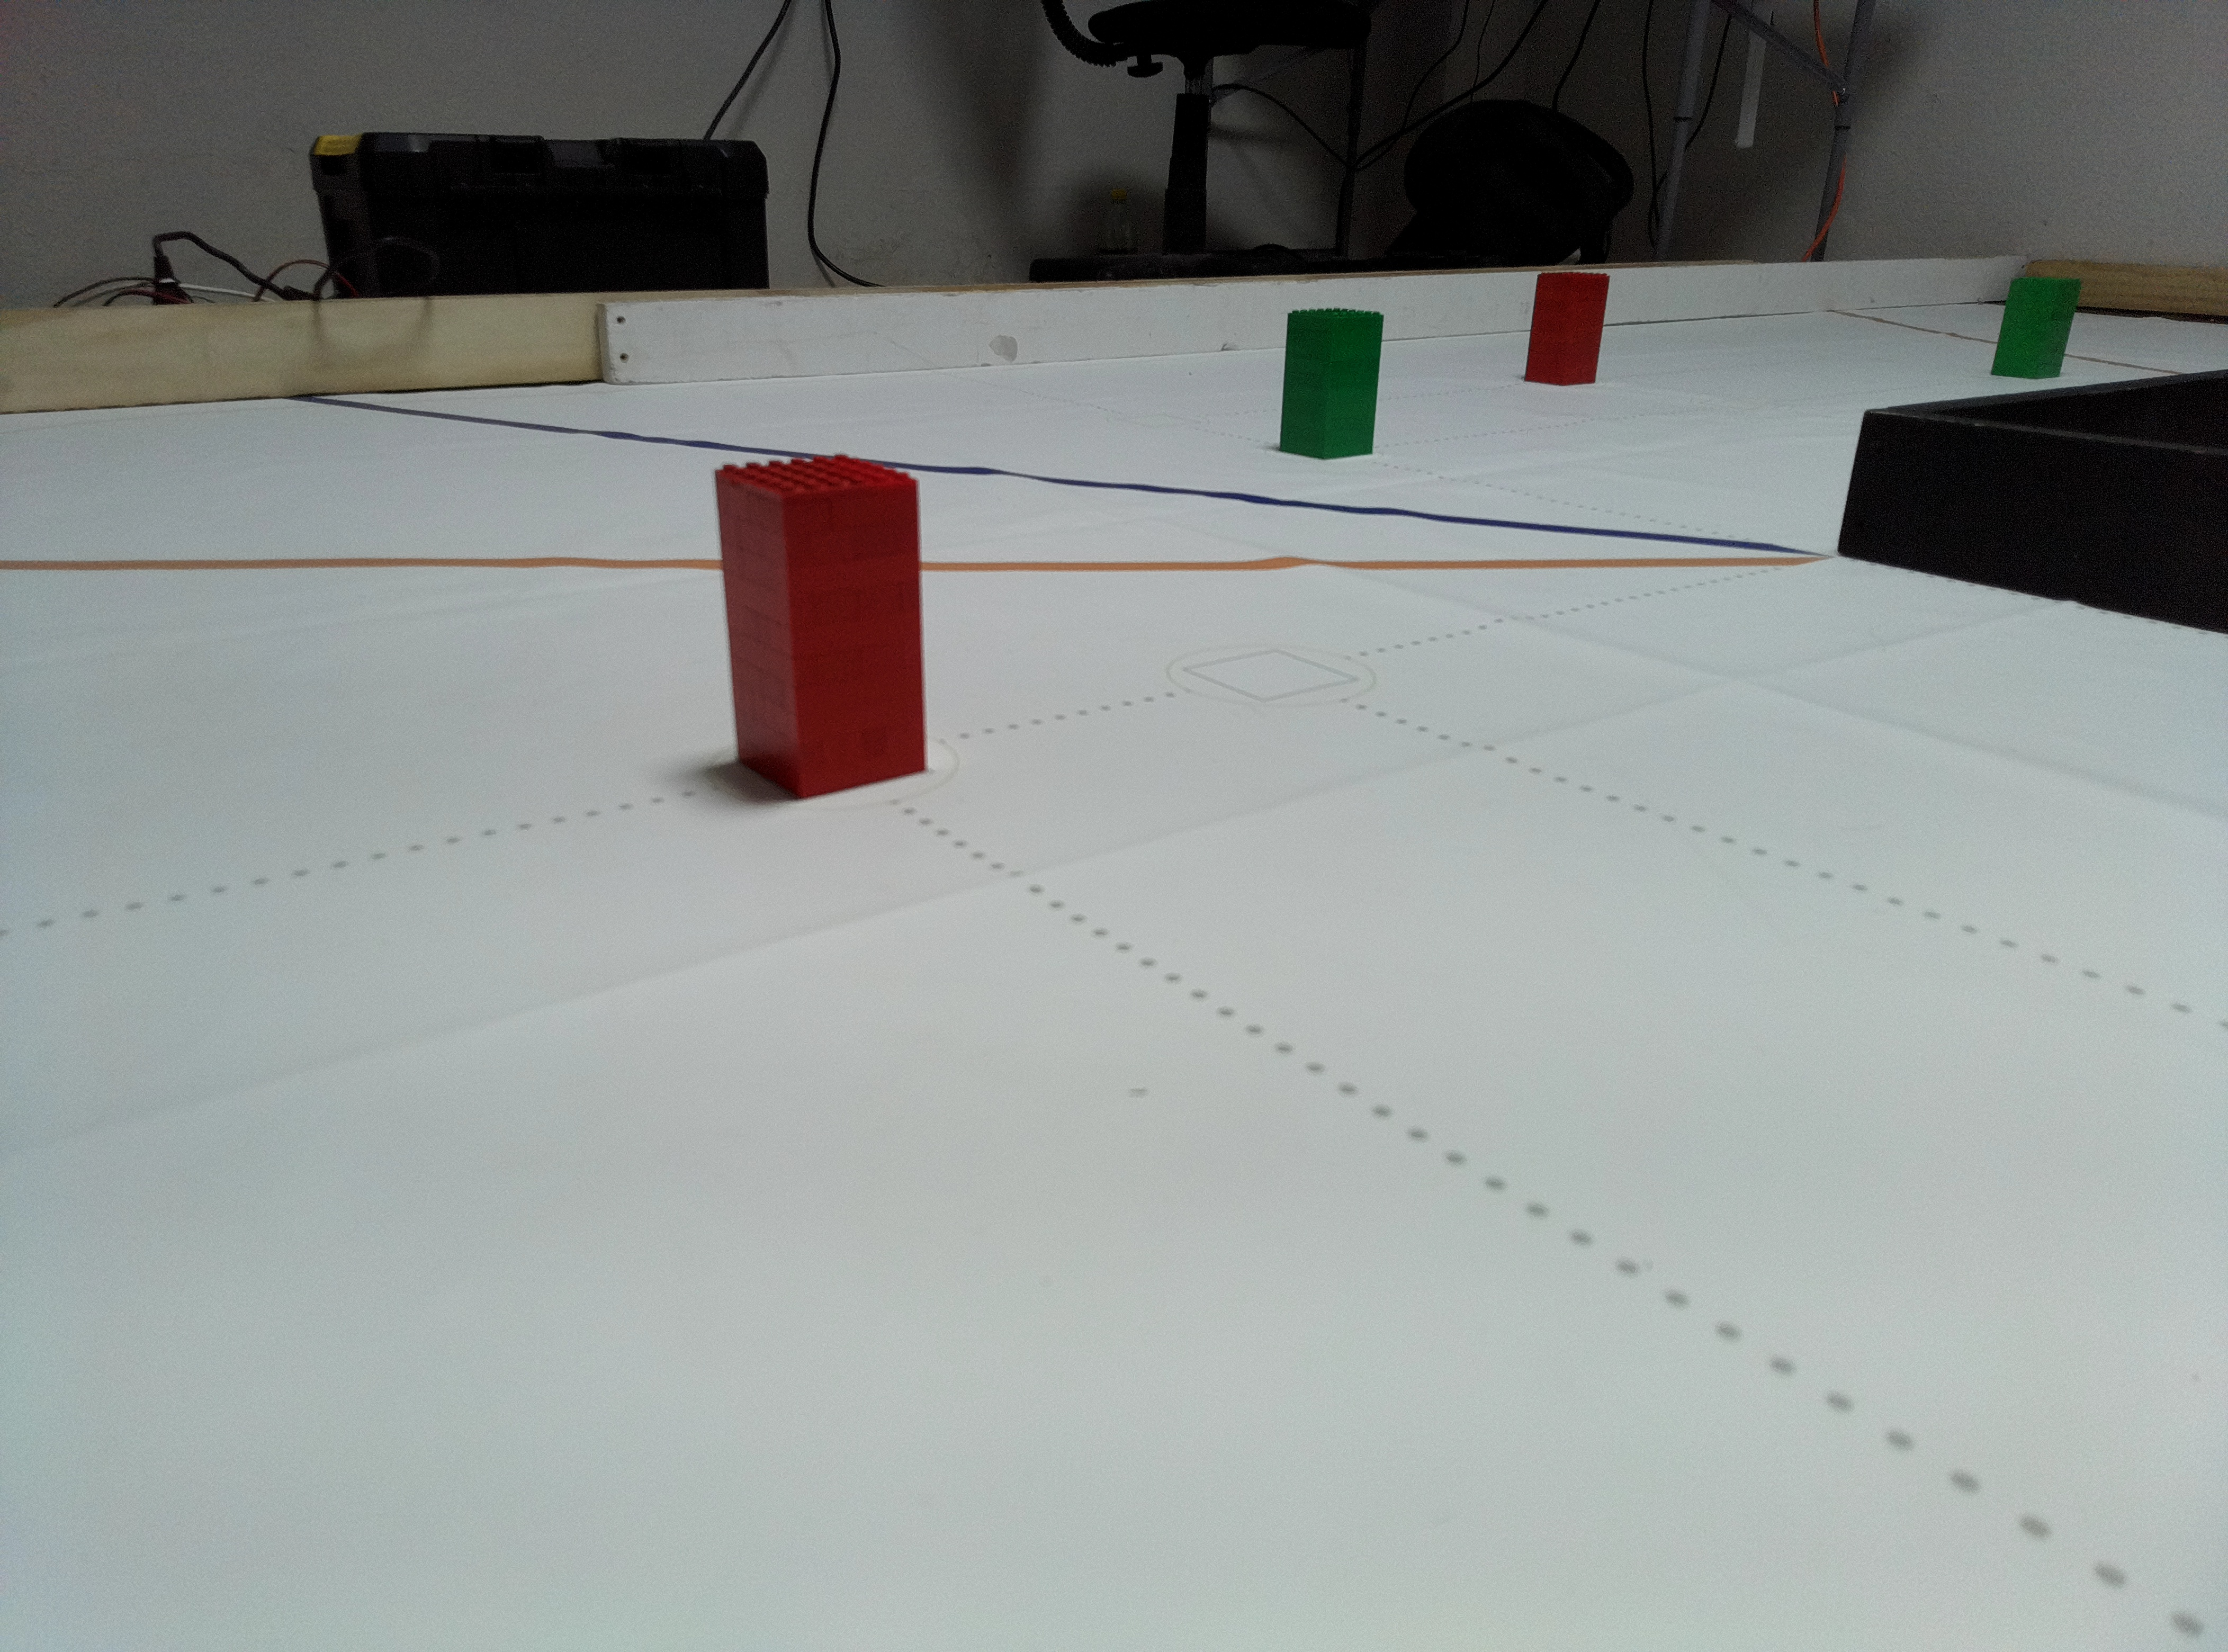greenbox: (1279, 307, 1386, 462), (1989, 276, 2084, 380)
redbox: (713, 451, 932, 803), (1522, 269, 1610, 387)
